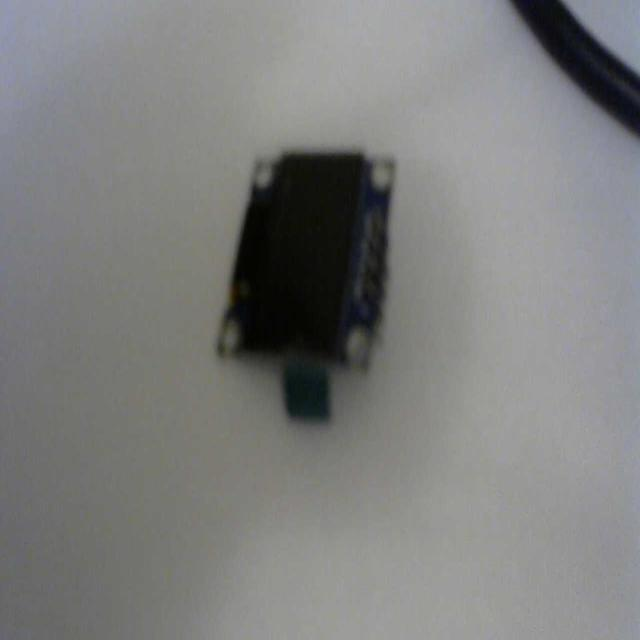oled: (213, 151, 405, 431)
